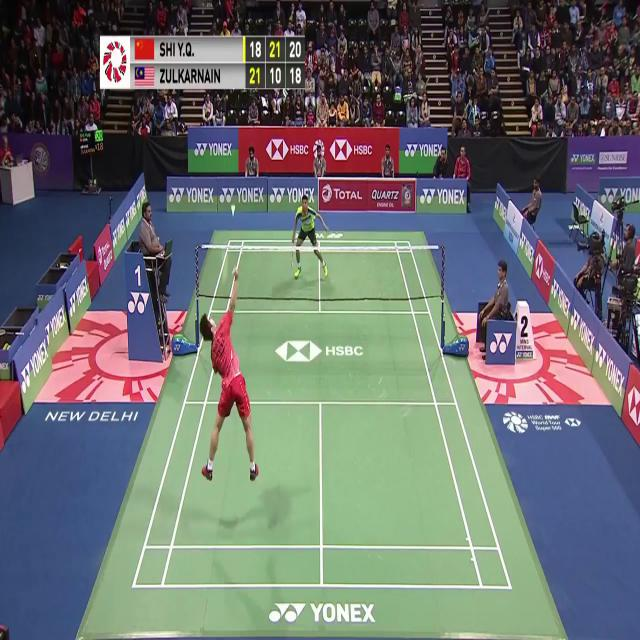Shuttlecock: (229, 208, 236, 220)
